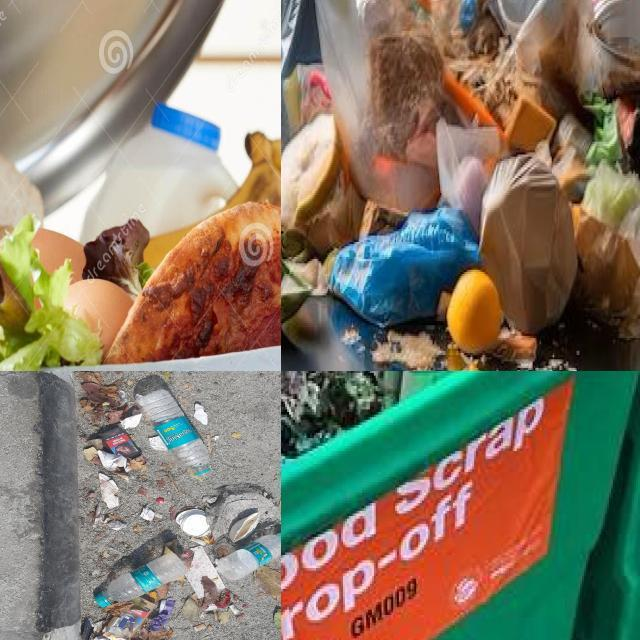Background: (0, 371, 281, 640)
Cig_bud: (189, 537, 207, 546), (229, 604, 241, 615), (193, 624, 205, 632)
Cig_pack: (103, 597, 155, 640), (97, 426, 145, 472)
Garbage: (281, 0, 640, 360), (0, 90, 281, 371)
Plastic_Bag: (329, 205, 479, 326), (436, 119, 500, 235)
Plastic_Container: (80, 103, 237, 243), (593, 0, 640, 60)
Plastic_bottle: (136, 390, 211, 480), (95, 552, 188, 608), (215, 532, 281, 580)
Plastic_wraper: (150, 599, 176, 631), (174, 546, 194, 568), (81, 618, 93, 640)
